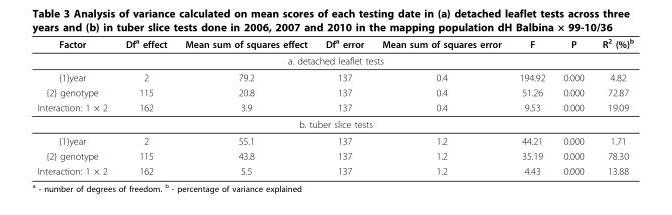table: (36, 36, 633, 176)
table column: (175, 36, 315, 176), (372, 36, 509, 176), (36, 36, 115, 176), (115, 36, 175, 176), (315, 36, 372, 176), (509, 36, 553, 176), (592, 36, 633, 176), (553, 36, 592, 176)
table column header: (36, 36, 633, 52)
table projected row header: (36, 115, 633, 132), (36, 52, 633, 68)
table row: (36, 115, 633, 132), (36, 36, 633, 52), (36, 52, 633, 68), (36, 68, 633, 84), (36, 99, 633, 115), (36, 132, 633, 148), (36, 84, 633, 99), (36, 148, 633, 163), (36, 163, 633, 176)
